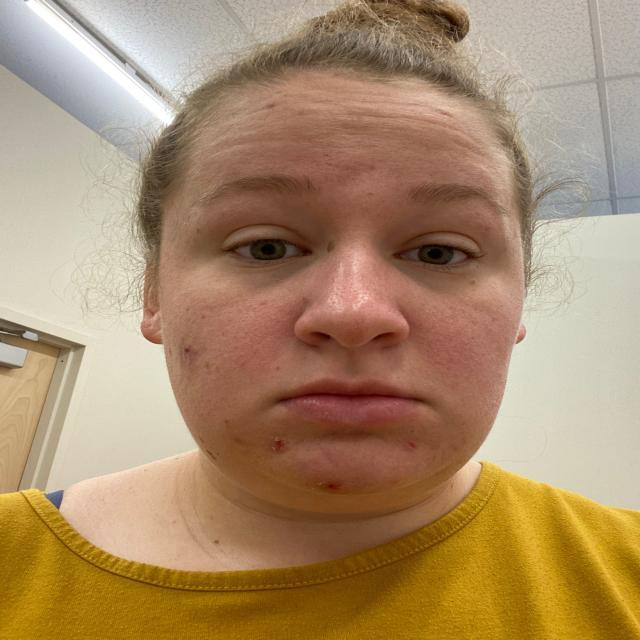acne: (315, 478, 353, 494), (177, 342, 194, 371), (268, 434, 292, 454), (402, 437, 422, 453), (232, 432, 248, 447)
pores: (212, 296, 300, 367), (418, 308, 477, 378)
wrinkle: (308, 98, 454, 116), (396, 115, 482, 144), (206, 136, 300, 154), (216, 102, 278, 122), (288, 88, 406, 96), (200, 132, 253, 146), (454, 140, 480, 154)
